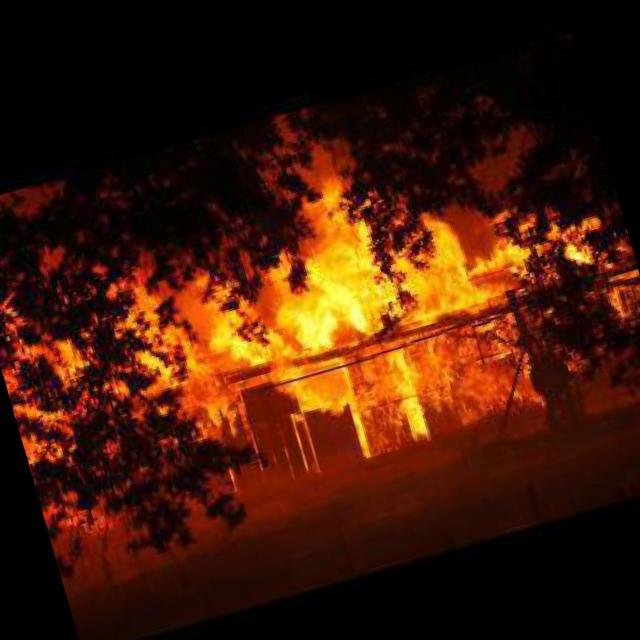fire: (79, 89, 630, 516)
